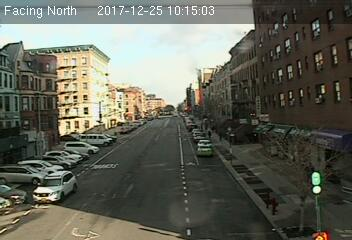car: (31, 170, 75, 204), (196, 144, 212, 158)
